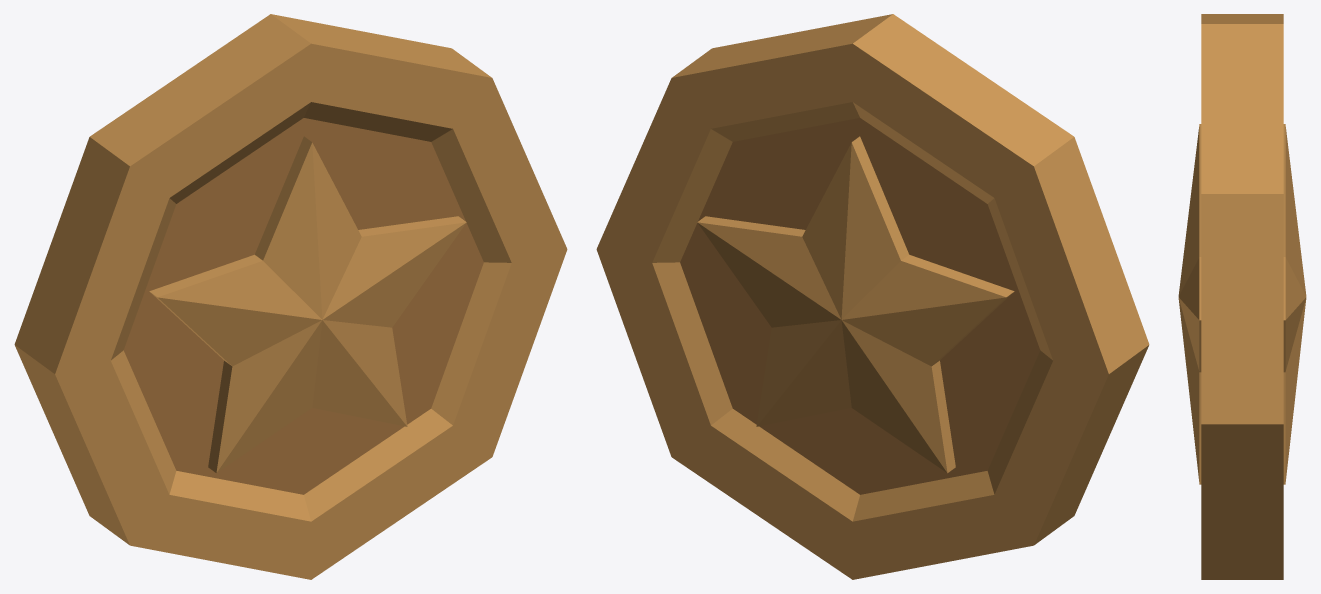
The model's file is SM_Icon_Coin_02.fbx.
3 views of the same model, side by side, from view 1: azimuth 30°, elevation 25°; view 2: azimuth 150°, elevation 25°; view 3: azimuth 270°, elevation 25° (orthographic).
Parts seen in each view (by area): view 1: SM_Icon_Coin_02; view 2: SM_Icon_Coin_02; view 3: SM_Icon_Coin_02.
Part boxes in pixels (x1,y1,x2,y2): SM_Icon_Coin_02: (14, 14, 567, 579); SM_Icon_Coin_02: (596, 14, 1149, 579); SM_Icon_Coin_02: (1178, 14, 1306, 579).
Size of the model in its own units: 58.82 by 58.82 by 12.5.
